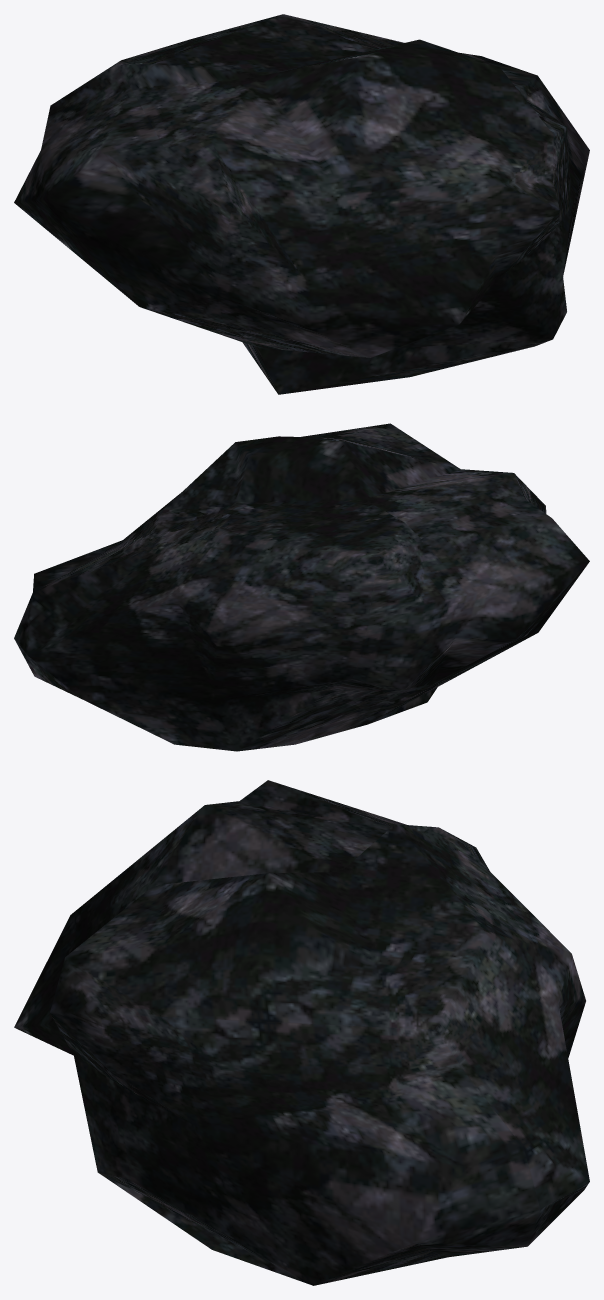
The model's file is asteroid_obsidian_medium_s02_l2.fbx.
3 renders of one model, top to bottom at view 1: azimuth 30°, elevation 25°; view 2: azimuth 150°, elevation 25°; view 3: azimuth 270°, elevation 25°, orthographic. The views are drawn at different scales.
Parts seen in each view (by area): view 1: mesh_node; view 2: mesh_node; view 3: mesh_node.
Boxes of the visible parts, x1,y1,x2,y2 form: mesh_node: [14, 14, 589, 394]; mesh_node: [14, 423, 589, 751]; mesh_node: [14, 780, 589, 1285].
Bounding box in the file's own units: 85.19 × 42.07 × 69.49.
1 material, 1 textured.
